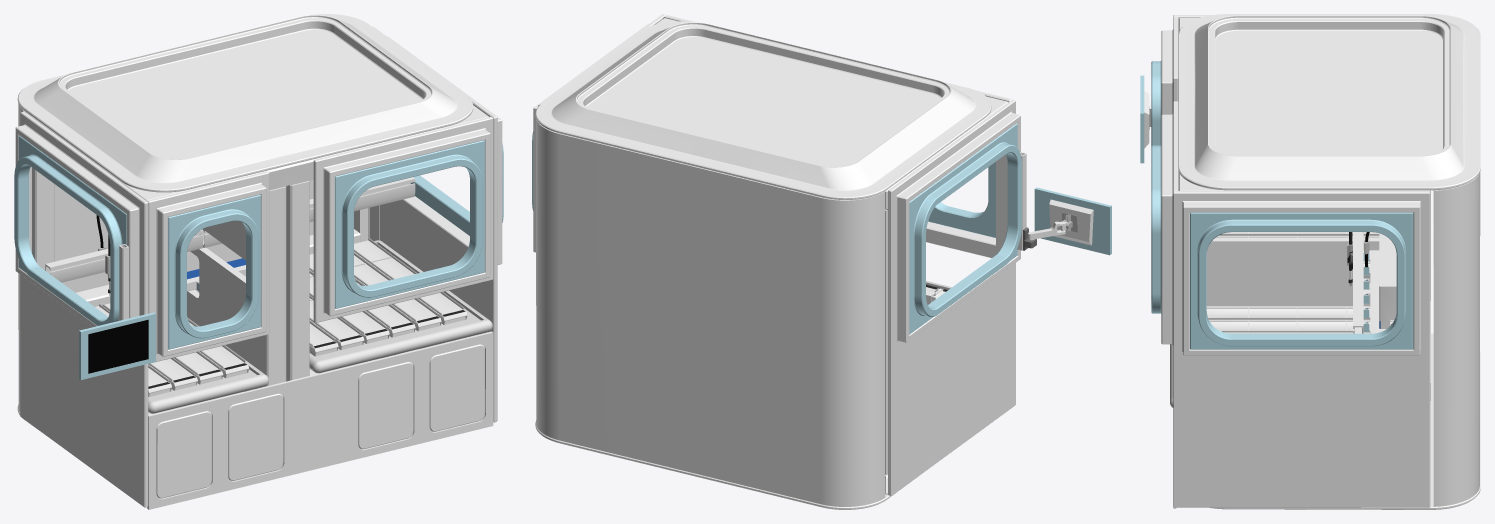
File: machine.gltf
3 renders of one model, left to right at view 1: azimuth 30°, elevation 25°; view 2: azimuth 150°, elevation 25°; view 3: azimuth 270°, elevation 25°, orthographic. The views are drawn at different scales.
Parts seen in each view (by area): view 1: RODEO MASCHINE, Display, Schiene.009, Schiene.008, BarLeft, BarRight, Schiene.005, Schiene.007, Schiene.006, Schiene.001, Schiene.003, Schiene.002 (+3 smaller); view 2: RODEO MASCHINE, Display; view 3: RODEO MASCHINE, Rondell, Schiene.004, Schiene.005, BarRight, Display, Schiene.000, Schiene.001.
Boxes of the visible parts, box(x1,y1,x2,y2) form: RODEO MASCHINE: box(14, 14, 503, 509); Display: box(79, 312, 155, 379); Schiene.009: box(354, 238, 467, 324); Schiene.008: box(354, 252, 441, 331); BarLeft: box(45, 229, 203, 282); BarRight: box(199, 177, 415, 247); Schiene.005: box(309, 295, 364, 349); Schiene.007: box(309, 253, 415, 337); Schiene.006: box(309, 270, 389, 343); Schiene.001: box(95, 303, 197, 390); Schiene.003: box(187, 318, 248, 378); Schiene.002: box(102, 303, 223, 384); RODEO MASCHINE: box(532, 14, 1021, 509); Display: box(1034, 187, 1111, 255); RODEO MASCHINE: box(1151, 14, 1480, 509); Rondell: box(1370, 233, 1396, 333); Schiene.004: box(1206, 306, 1394, 319); Schiene.005: box(1209, 319, 1394, 332); BarRight: box(1353, 232, 1363, 333); Display: box(1140, 75, 1151, 163); Schiene.000: box(1219, 232, 1379, 235); Schiene.001: box(1216, 235, 1379, 237).
Size of the model in its own units: 3.2 by 2.35 by 2.03.
Materials: 2 (1 with a texture image).
